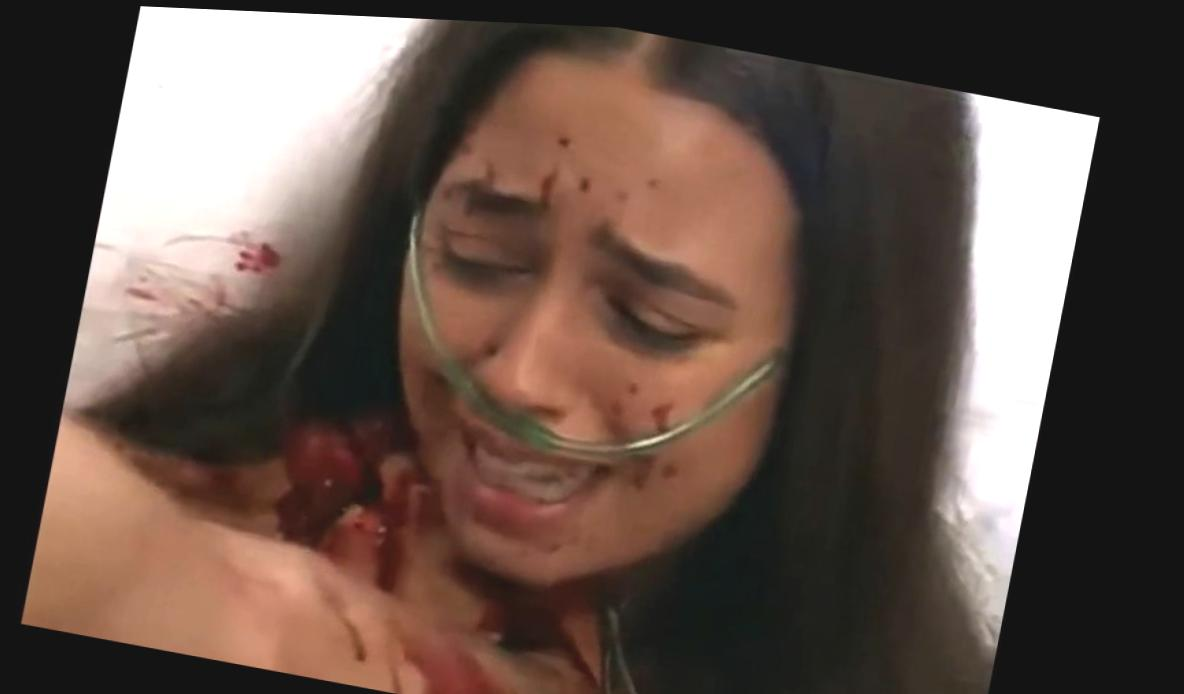Fire: (279, 408, 645, 694), (425, 99, 676, 238), (117, 226, 282, 339), (605, 377, 689, 432), (615, 437, 685, 489)
